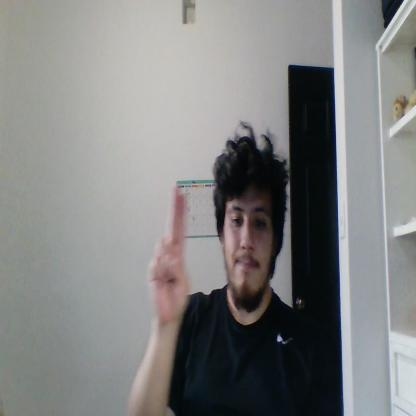U: (148, 187, 188, 320)
